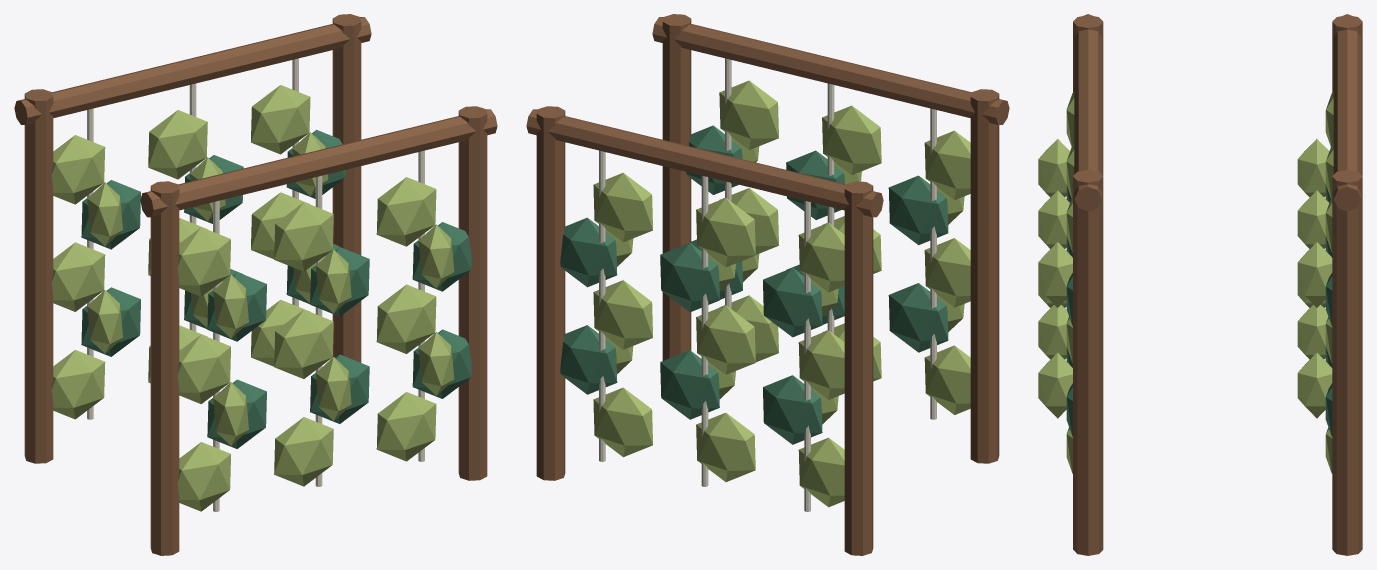
The model's file is hopTrellis.glb.
3 views of the same model, side by side, from view 1: azimuth 30°, elevation 25°; view 2: azimuth 150°, elevation 25°; view 3: azimuth 270°, elevation 25° (orthographic). The views are drawn at different scales.
Parts seen in each view (by area): view 1: Cone.175, Cone.169, Cone.170, Cone.171, Cone.177, Cone.176, Icosphere.101, Icosphere.091, Icosphere.118, Icosphere.098, Icosphere.125, Icosphere.097 (+30 smaller); view 2: Cone.169, Cone.175, Cone.176, Cone.177, Cone.171, Cone.170, Icosphere.097, Icosphere.112, Icosphere.115, Icosphere.118, Icosphere.122, Icosphere.104 (+26 smaller); view 3: Cone.170, Cone.176, Cone.177, Cone.171, Icosphere.124, Icosphere.100, Icosphere.103, Icosphere.121, Icosphere.117, Icosphere.110, Icosphere.089, Icosphere.096 (+4 smaller).
Boxes of the visible parts, <box> form: Cone.175: <box>24,89,53,463</box>; Cone.169: <box>150,181,179,555</box>; Cone.170: <box>458,106,487,480</box>; Cone.171: <box>140,109,497,217</box>; Cone.177: <box>14,17,371,124</box>; Cone.176: <box>332,14,361,362</box>; Icosphere.101: <box>376,284,436,353</box>; Icosphere.091: <box>274,417,333,486</box>; Icosphere.118: <box>148,110,207,179</box>; Icosphere.098: <box>376,392,436,461</box>; Icosphere.125: <box>251,85,310,154</box>; Icosphere.097: <box>274,202,333,271</box>; Cone.169: <box>970,89,999,463</box>; Cone.175: <box>844,181,873,555</box>; Cone.176: <box>536,106,565,480</box>; Cone.177: <box>526,109,883,217</box>; Cone.171: <box>652,17,1009,124</box>; Cone.170: <box>662,14,691,360</box>; Icosphere.097: <box>822,105,881,174</box>; Icosphere.112: <box>696,412,755,481</box>; Icosphere.115: <box>696,305,755,374</box>; Icosphere.118: <box>696,198,755,267</box>; Icosphere.122: <box>593,280,652,349</box>; Icosphere.104: <box>719,80,778,150</box>; Cone.170: <box>1073,170,1103,555</box>; Cone.176: <box>1332,170,1362,555</box>; Cone.177: <box>1333,14,1361,211</box>; Cone.171: <box>1074,14,1101,211</box>; Icosphere.124: <box>1297,242,1332,307</box>; Icosphere.100: <box>1038,352,1072,418</box>; Icosphere.103: <box>1038,242,1072,307</box>; Icosphere.121: <box>1297,353,1332,418</box>; Icosphere.117: <box>1297,190,1329,248</box>; Icosphere.110: <box>1297,139,1329,197</box>; Icosphere.089: <box>1038,139,1069,197</box>; Icosphere.096: <box>1038,190,1069,248</box>.
Bounding box in the file's own units: 1.34 × 1.35 × 1.06.
